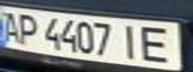0: (75, 19, 96, 55)
4: (39, 15, 63, 51), (57, 16, 78, 53)
7: (90, 19, 118, 56)
A: (0, 8, 24, 44)
E: (136, 22, 181, 64)
I: (115, 21, 148, 61)
P: (12, 11, 42, 46)
